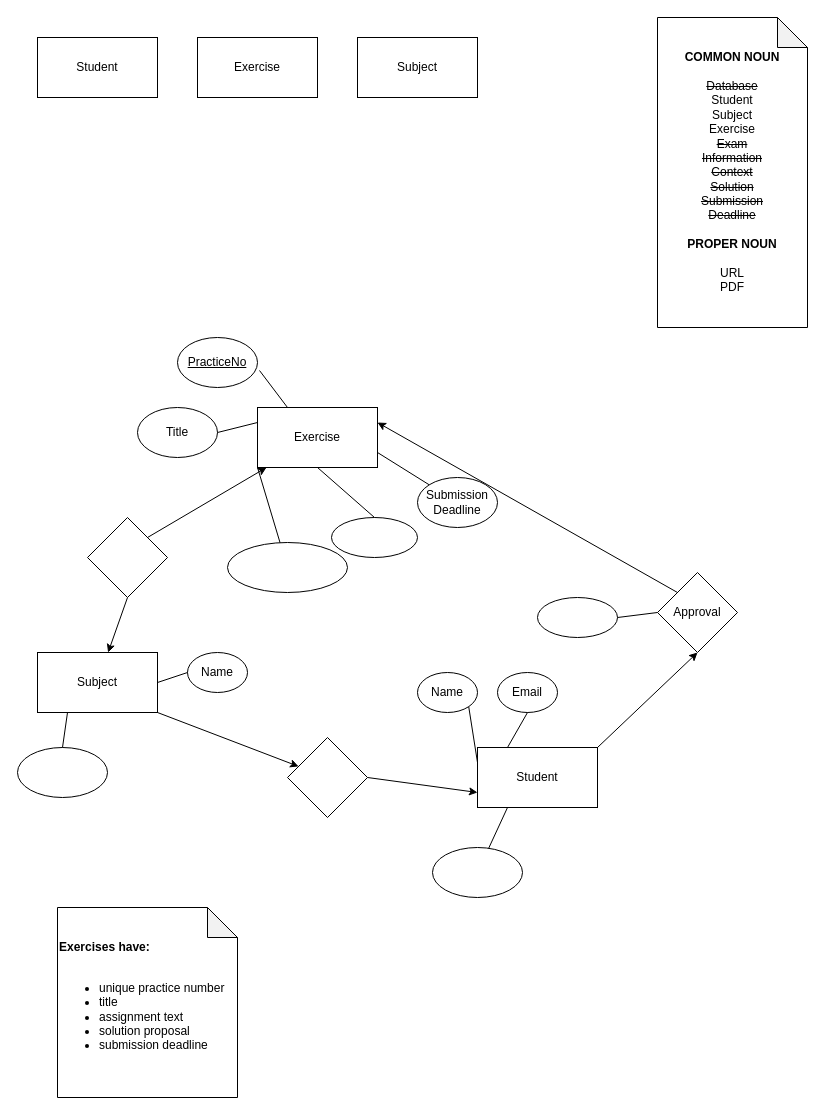
Some shapes in this 825 by 1115 pixel diagram are drawn without their labels. The box of each missing label's shape, as (x1, y1, x2, y2) in pixels:
Assignment Text: (226, 542, 348, 592)
Date: (536, 596, 618, 638)
is part of: (86, 516, 168, 598)
Participates in: (286, 736, 368, 818)
Solution Proposal: (330, 516, 418, 558)
StudentNo: (432, 846, 522, 898)
SubjectNo: (16, 746, 108, 798)
